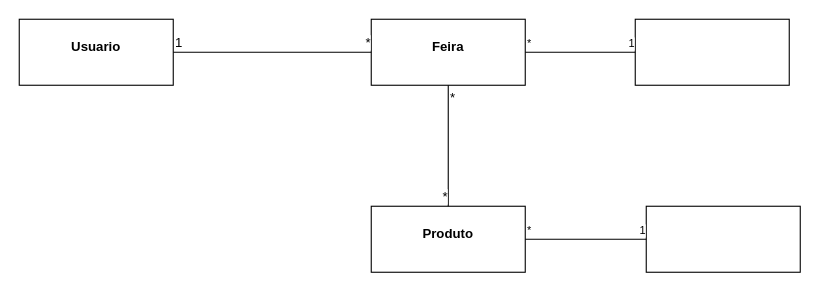
Some shapes in this 820 by 292 pixel diagram are drawn without their labels. The box of each missing label's shape, as (x1, y1, x2, y2) in pixels:
Seção: (645, 205, 800, 272)
Supermercado: (634, 18, 789, 85)
